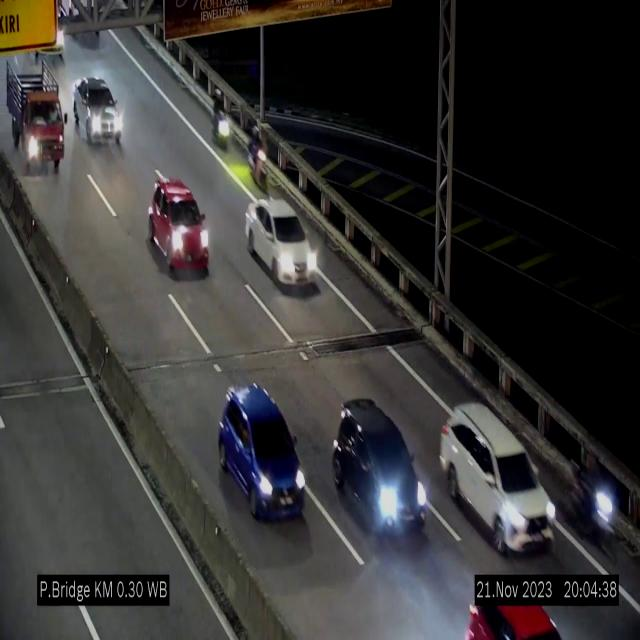Car: (439, 404, 554, 554), (333, 397, 429, 543), (218, 384, 306, 520), (244, 198, 320, 288), (148, 178, 210, 277), (76, 75, 126, 154)
Motorcycle: (571, 447, 616, 549), (247, 127, 270, 196), (210, 84, 230, 151)
Truck: (5, 59, 69, 177)
